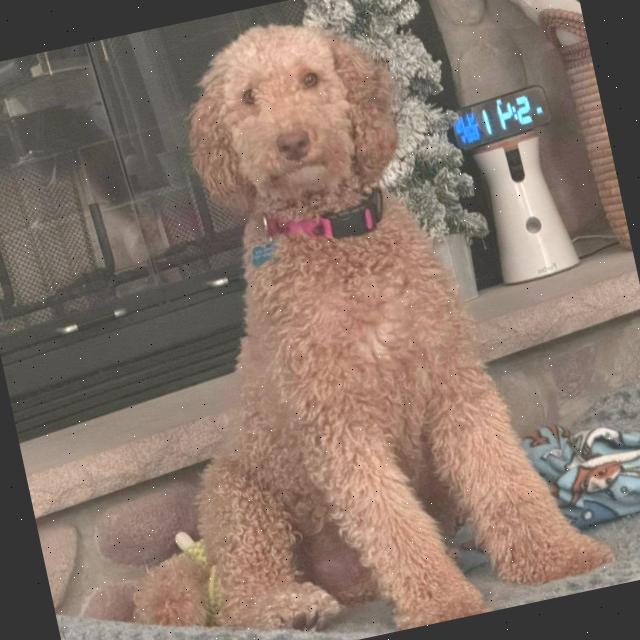Poodle_dog: (151, 0, 442, 288)
